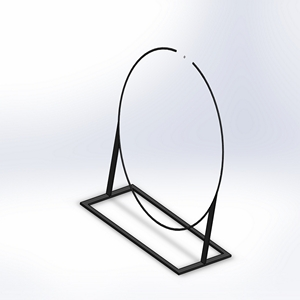circle: (80, 46, 234, 275)
